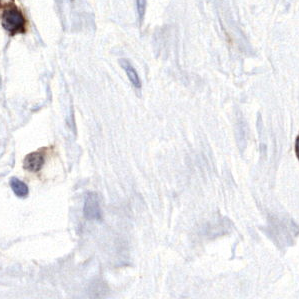Lymphocyte: (3, 5, 27, 34)
